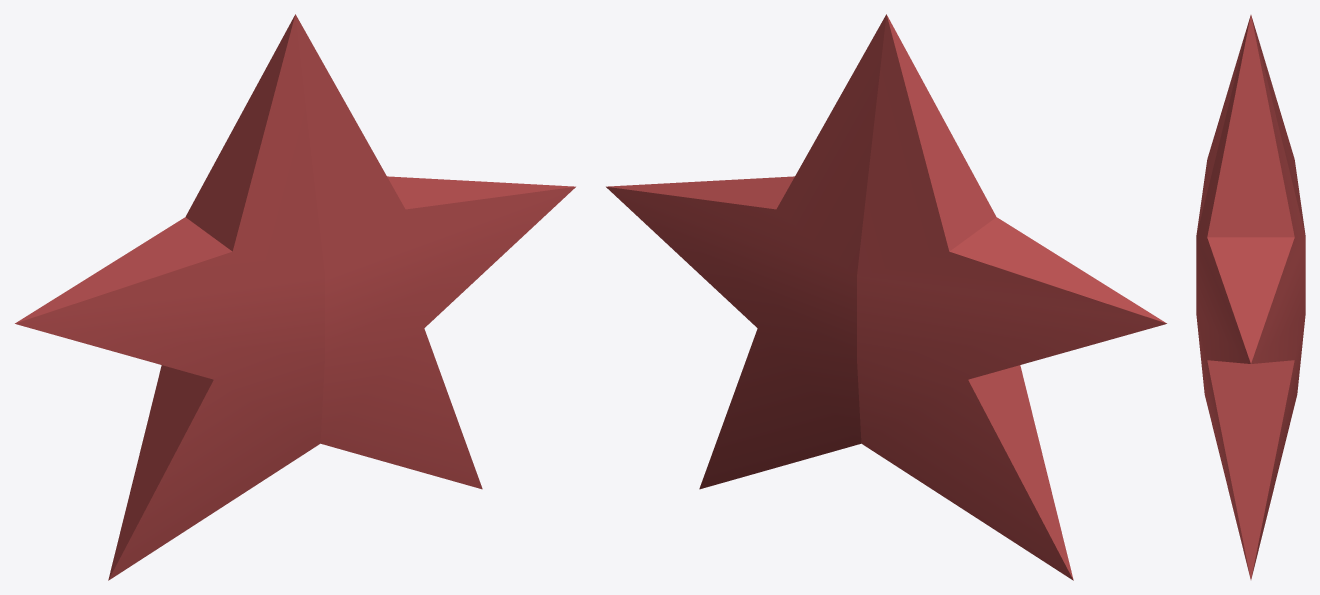
Rendered from win_star (2).fbx.
3 renders of one model, left to right at view 1: azimuth 30°, elevation 25°; view 2: azimuth 150°, elevation 25°; view 3: azimuth 270°, elevation 25°, orthographic. The views are drawn at different scales.
Parts seen in each view (by area): view 1: star2; view 2: star2; view 3: star2.
Boxes of the visible parts, x1,y1,x2,y2 form: star2: [15, 14, 575, 580]; star2: [606, 14, 1166, 580]; star2: [1196, 15, 1305, 579].
Bounding box in the file's own units: 3.44 × 3.05 × 0.6279.
